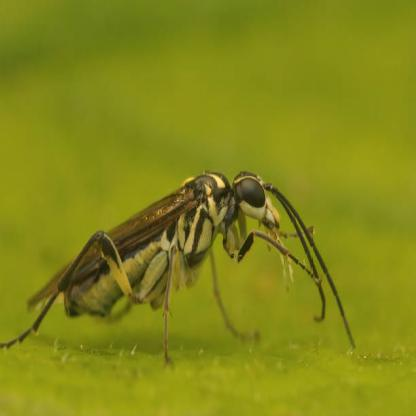sawfly: (0, 159, 363, 367)
